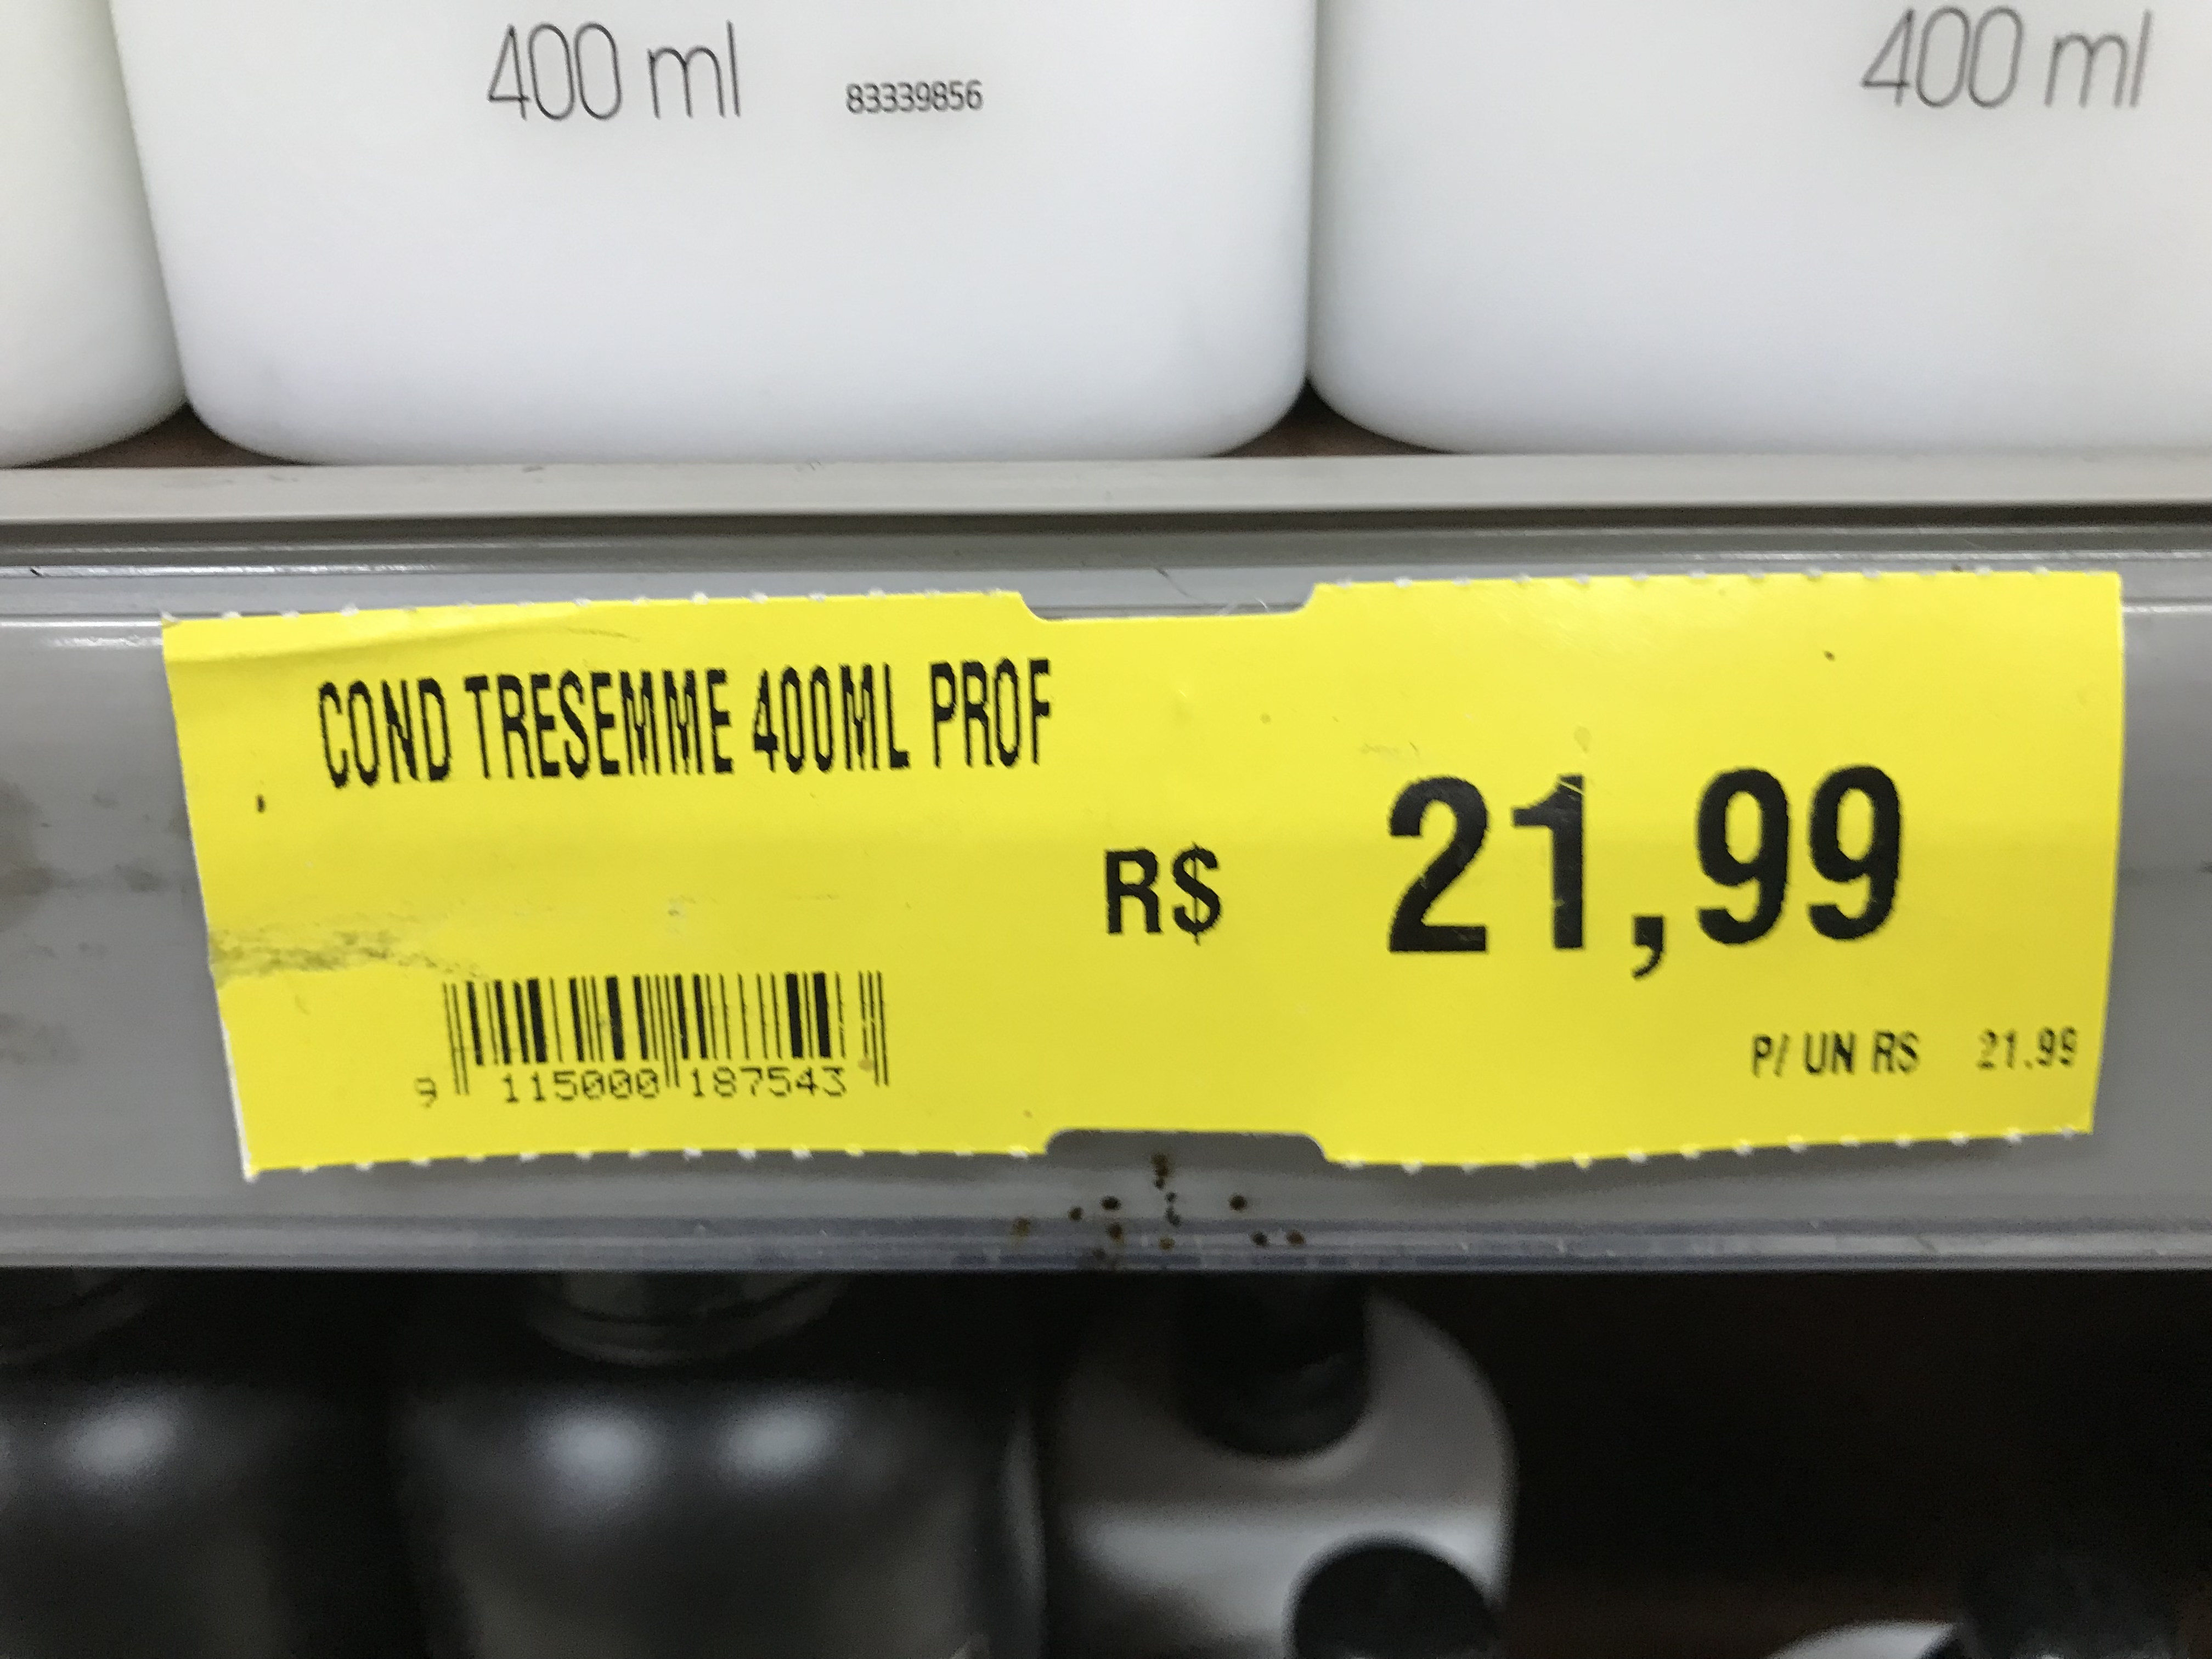estampa: (148, 556, 2151, 1197)
